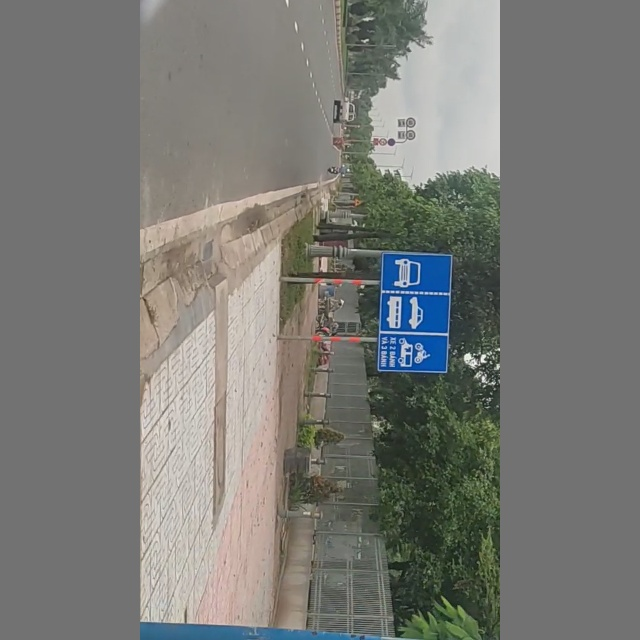R.415a: (375, 248, 452, 375)
